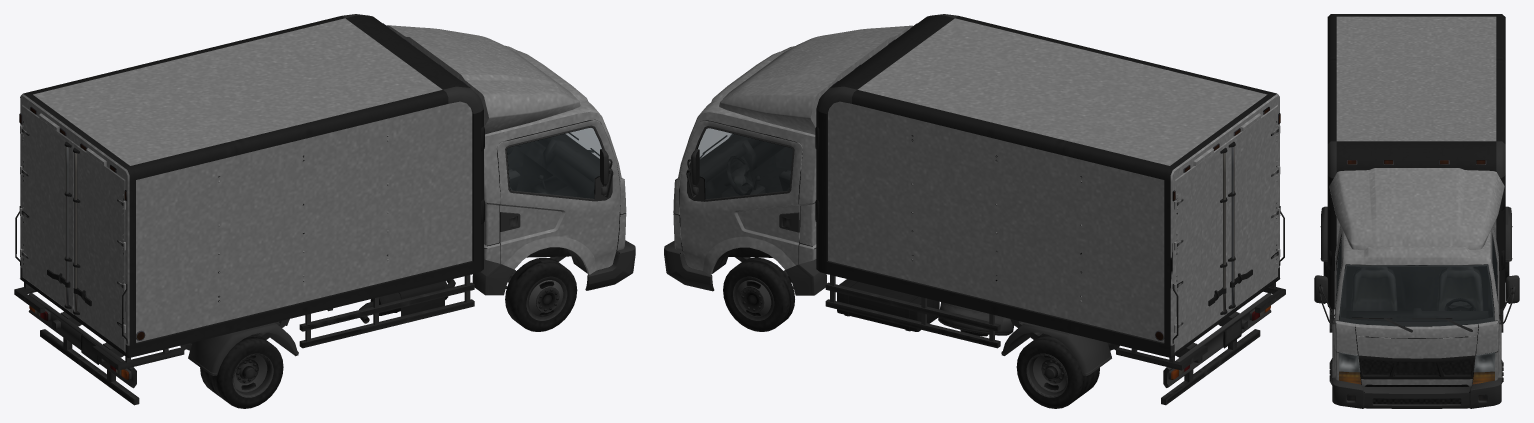
File: leva-tudo.glb
3 views of the same model, side by side, from view 1: azimuth 30°, elevation 25°; view 2: azimuth 150°, elevation 25°; view 3: azimuth 270°, elevation 25° (orthographic). The views are drawn at different scales.
Visible parts, largest first — view 1: body, trunk, glass_door_fr, wheel_fr_tire, wheel_rr_tire, bumper_rear, wheel_fr_rim, wheel_rr_rim, bumper_front; view 2: body, trunk, glass_door_fl, wheel_fl_tire, wheel_rl_tire, bumper_rear, wheel_fl_rim, wheel_rl_rim, bumper_front; view 3: body, glass_windshield, bumper_front, headlight_left, headlight_right.
Part boxes in pixels (x1,y1,x2,y2): body: [14, 14, 626, 405]; trunk: [21, 105, 125, 352]; glass_door_fr: [507, 128, 601, 198]; wheel_fr_tire: [505, 257, 577, 331]; wheel_rr_tire: [200, 333, 283, 408]; bumper_rear: [28, 293, 136, 388]; wheel_fr_rim: [526, 277, 567, 320]; wheel_rr_rim: [233, 354, 273, 397]; bumper_front: [585, 240, 635, 290]; body: [673, 14, 1285, 405]; trunk: [1174, 105, 1278, 352]; glass_door_fl: [698, 128, 792, 198]; wheel_fl_tire: [723, 257, 794, 331]; wheel_rl_tire: [1016, 333, 1099, 408]; bumper_rear: [1163, 293, 1271, 387]; wheel_fl_rim: [733, 277, 773, 320]; wheel_rl_rim: [1027, 354, 1067, 397]; bumper_front: [664, 241, 714, 291]; body: [1314, 14, 1519, 386]; glass_windshield: [1339, 265, 1494, 326]; bumper_front: [1332, 377, 1501, 408]; headlight_left: [1474, 352, 1494, 371]; headlight_right: [1339, 352, 1359, 371].
Size of the model in its own units: 5.86 by 2.84 by 2.43.
Materials: 6 (5 with a texture image).
